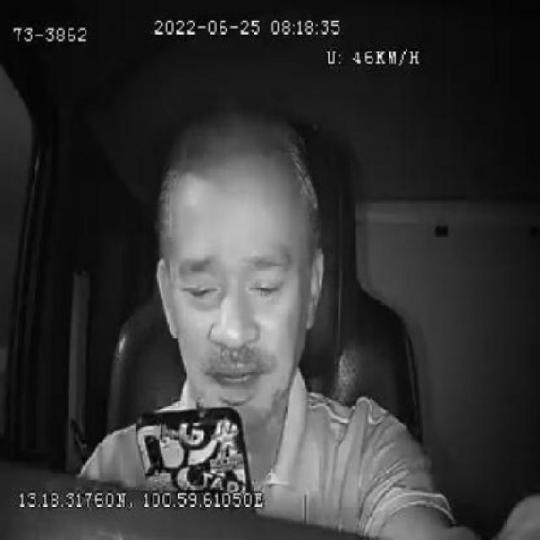phone: (133, 405, 253, 489)
